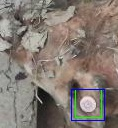text: (75, 89, 101, 117)
